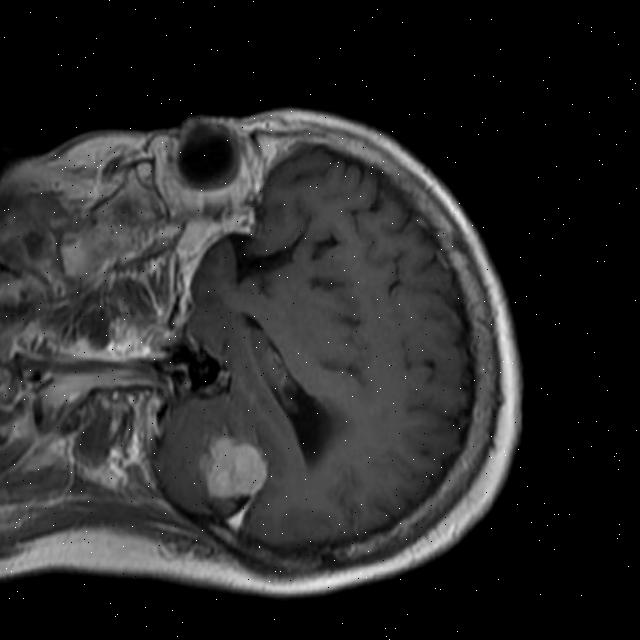Meningioma: (193, 432, 272, 532)
